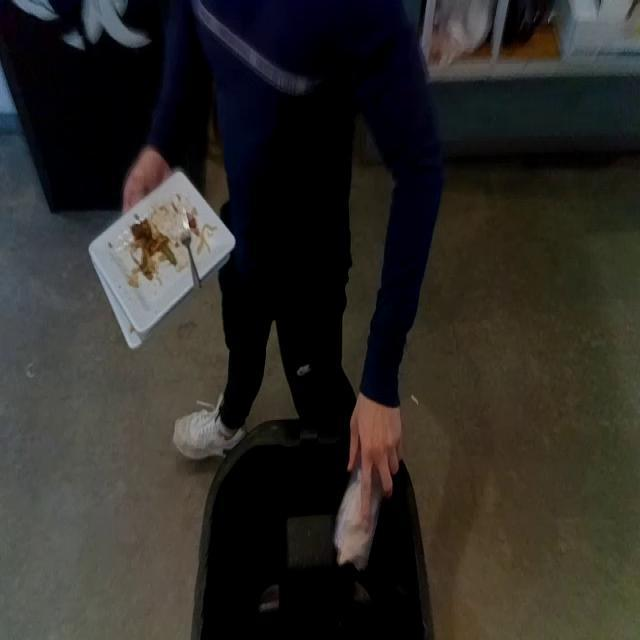Anorganik: (82, 158, 242, 352), (175, 198, 210, 297)
Organik: (130, 210, 178, 299)
